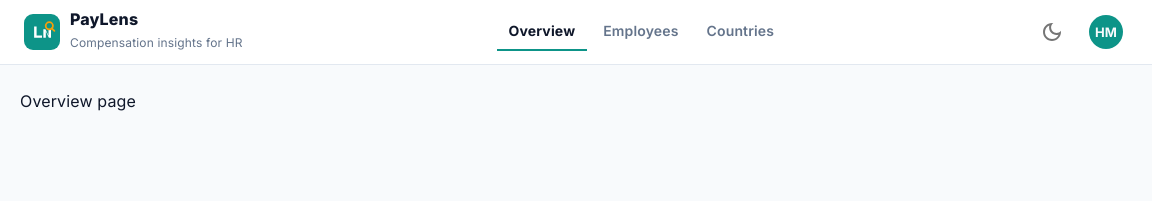
Test: AppLayout › exposes logout in the user menu
Click the button with aria-label "open user menu" at (1106, 32), box [1084,10,1128,54]
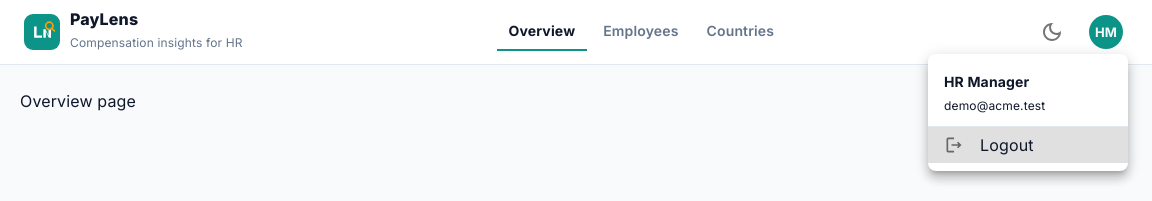
Result: the menu item "Logout" is shown at [928,127,1128,163]
